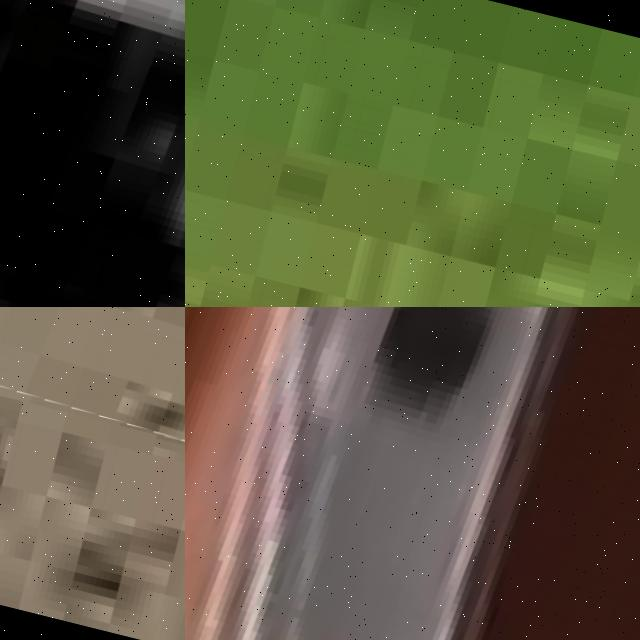drone: (185, 307, 640, 640), (0, 0, 185, 307), (0, 307, 185, 521)
